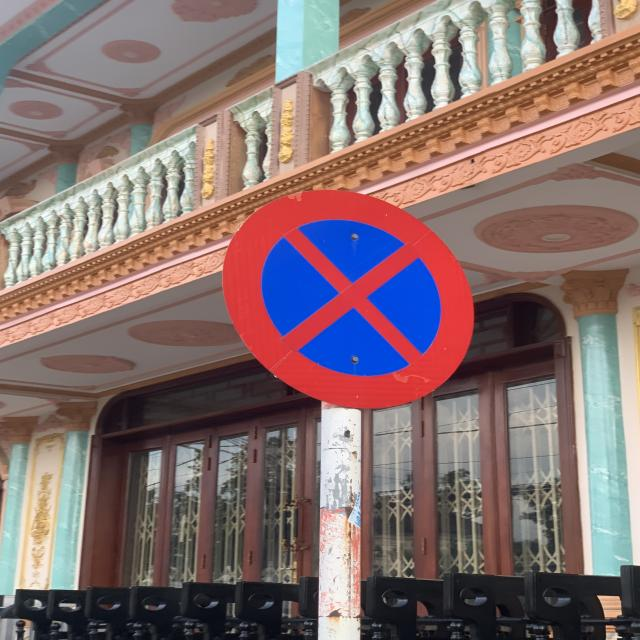Cam_Dung_Va_Dau_Xe: (222, 188, 475, 411)
